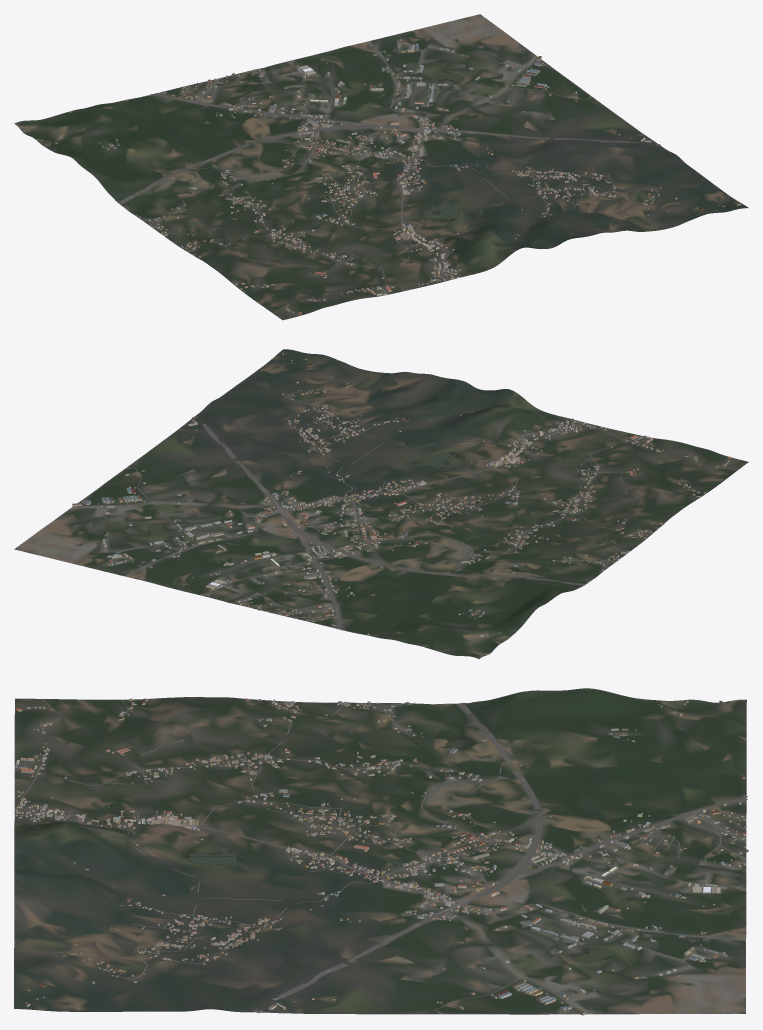
3 views of the same model, one above another, from view 1: azimuth 30°, elevation 25°; view 2: azimuth 150°, elevation 25°; view 3: azimuth 270°, elevation 25° (orthographic). The views are drawn at different scales.
Parts seen in each view (by area): view 1: ground, buildings, roads, water; view 2: ground, buildings, roads, water; view 3: ground, buildings, roads, water.
Boxes of the visible parts, bbox=[...] form: ground: bbox=[14, 14, 748, 320]; buildings: bbox=[22, 32, 741, 315]; roads: bbox=[118, 51, 660, 316]; water: bbox=[116, 55, 464, 220]; ground: bbox=[14, 349, 748, 658]; buildings: bbox=[64, 352, 731, 654]; roads: bbox=[126, 388, 738, 630]; water: bbox=[147, 451, 593, 606]; ground: bbox=[14, 688, 746, 1014]; buildings: bbox=[15, 698, 748, 1015]; roads: bbox=[14, 699, 747, 1014]; water: bbox=[181, 703, 736, 963].
Size of the model in its own units: 2817 by 114 by 2815.
